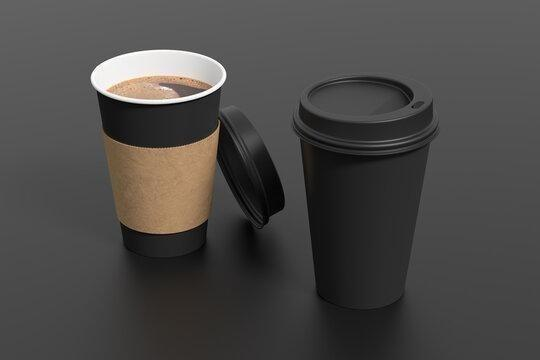cup-disposable: (290, 70, 441, 311), (89, 46, 229, 259)
